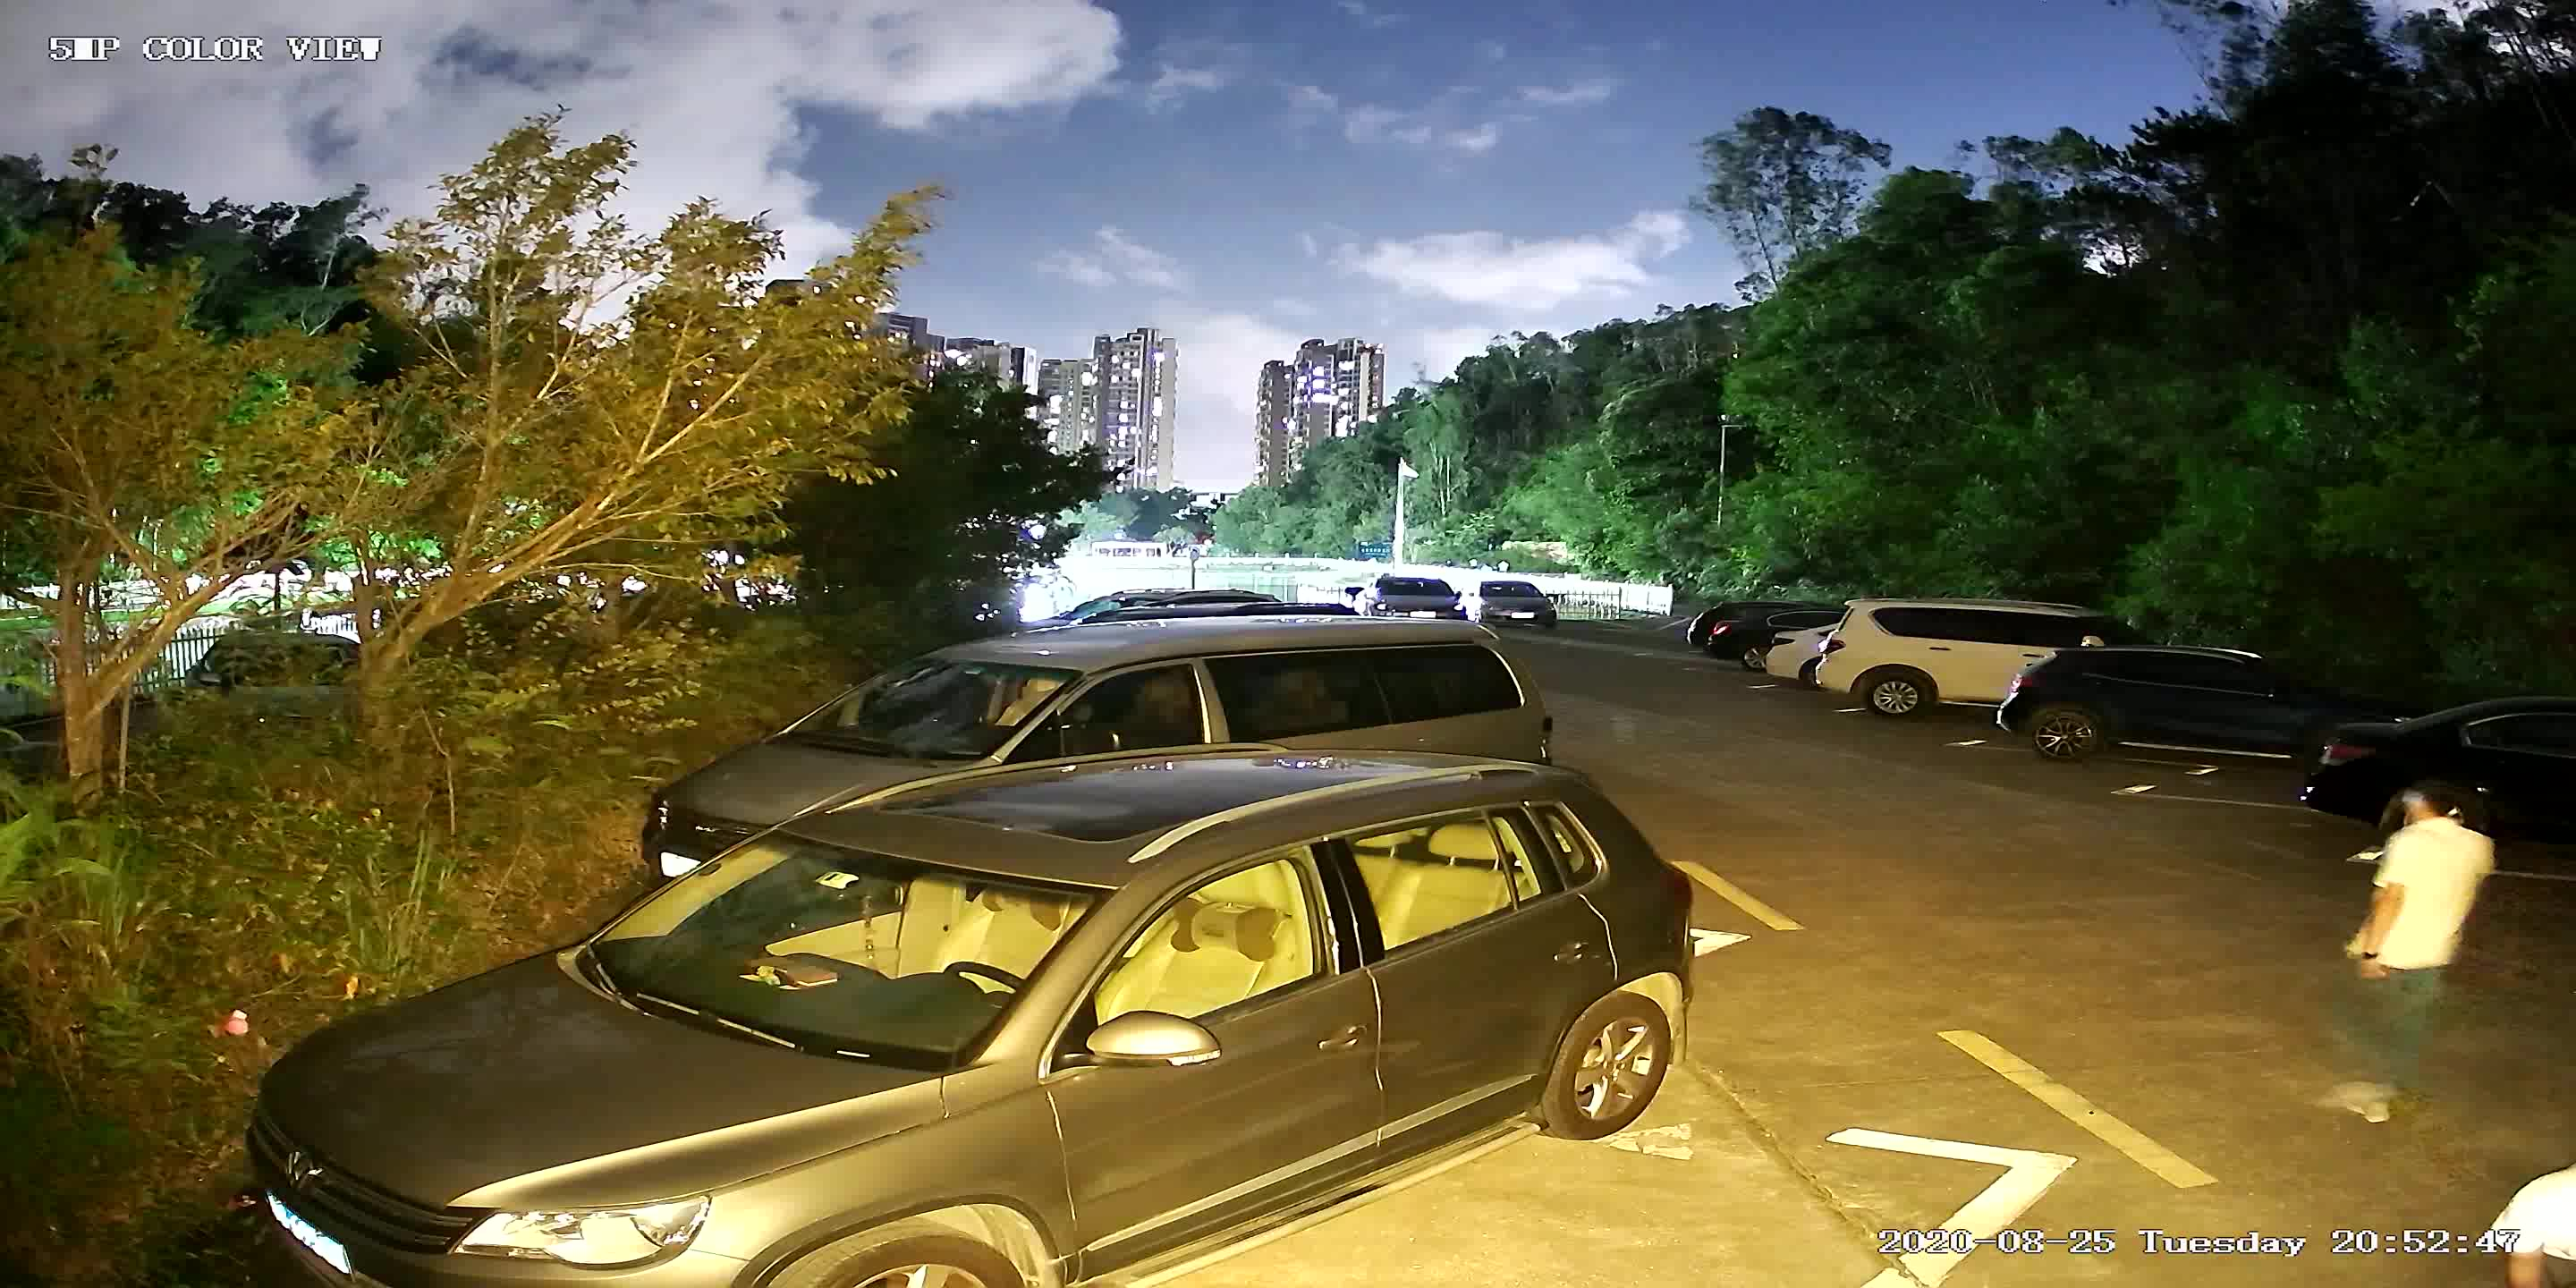Car: (246, 748, 1694, 1288), (641, 616, 1553, 882), (1998, 646, 2397, 761), (2298, 695, 2576, 843), (1815, 600, 2149, 718), (186, 632, 363, 721), (1702, 609, 1845, 672), (1068, 601, 1359, 624), (1682, 600, 1810, 647), (1357, 575, 1469, 621), (1058, 588, 1196, 621), (1464, 578, 1556, 628), (1766, 624, 1837, 687), (1140, 590, 1280, 606)
